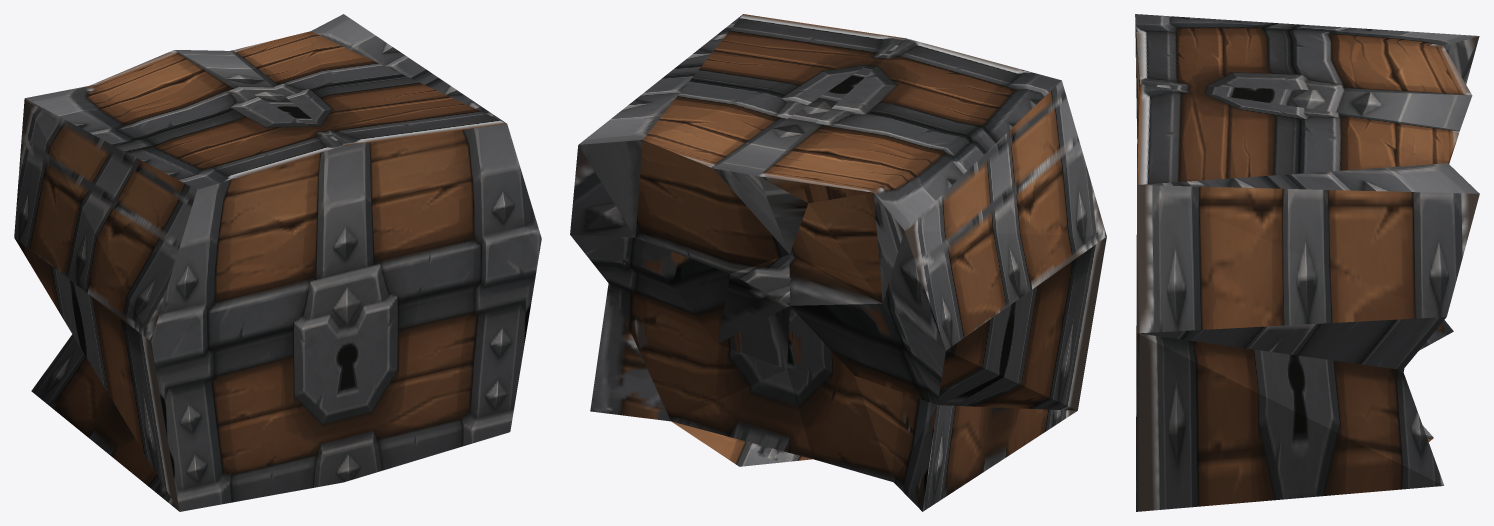
Rendered from SM_Dungeon_Chest_A_LOD3.fbx.
The picture shows the model from 3 angles, left to right: view 1: azimuth 30°, elevation 25°; view 2: azimuth 150°, elevation 25°; view 3: azimuth 270°, elevation 25°; orthographic projection. The views are drawn at different scales.
Parts seen in each view (by area): view 1: SM_Dungeon_Chest_A_LOD3; view 2: SM_Dungeon_Chest_A_LOD3; view 3: SM_Dungeon_Chest_A_LOD3.
Part boxes in pixels (bbox=[...]): SM_Dungeon_Chest_A_LOD3: bbox=[14, 14, 541, 511]; SM_Dungeon_Chest_A_LOD3: bbox=[570, 14, 1106, 511]; SM_Dungeon_Chest_A_LOD3: bbox=[1135, 14, 1479, 511].
Size of the model in its own units: 0.9849 by 0.8067 by 0.7132.
